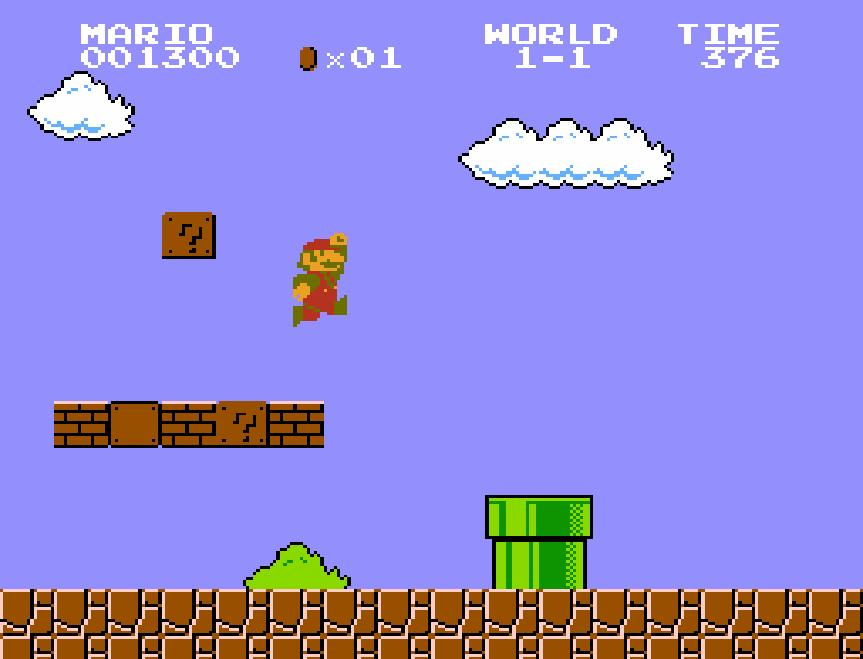big_mario: (291, 230, 349, 328)
